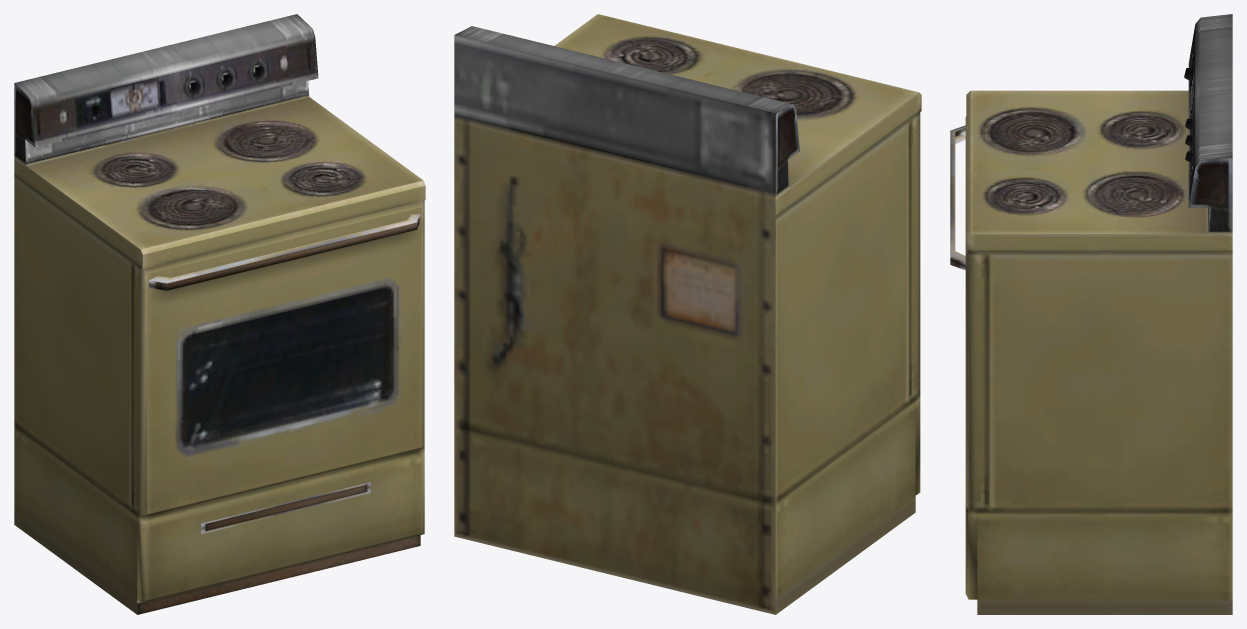
Rendered from default_oven.fbx.
3 views of the same model, side by side, from view 1: azimuth 30°, elevation 25°; view 2: azimuth 150°, elevation 25°; view 3: azimuth 270°, elevation 25° (orthographic). The views are drawn at different scales.
Visible parts, largest first — view 1: mesh_0; view 2: mesh_0; view 3: mesh_0.
Boxes of the visible parts, x1,y1,x2,y2 form: mesh_0: [14, 14, 425, 614]; mesh_0: [454, 14, 921, 614]; mesh_0: [950, 14, 1232, 614].
Bounding box in the file's own units: 80.04 × 119 × 66.71.
Materials: 1 (1 with a texture image).
